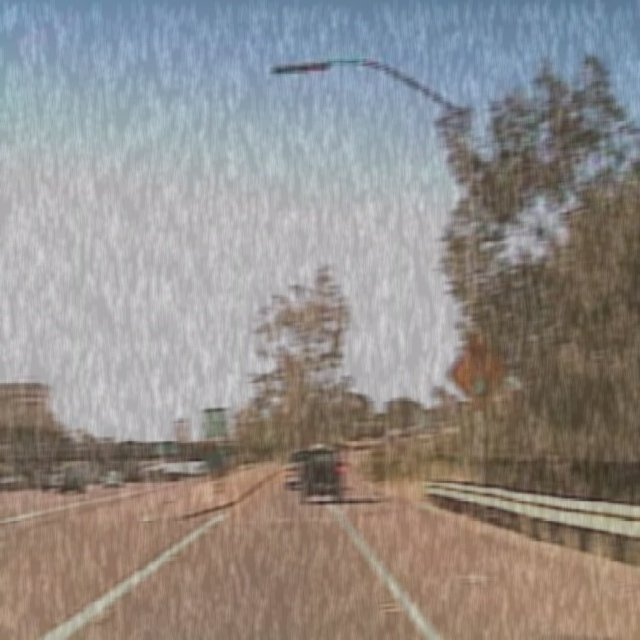signalAhead: (448, 331, 507, 409)
